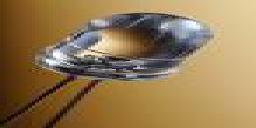LED: (10, 10, 216, 128)
